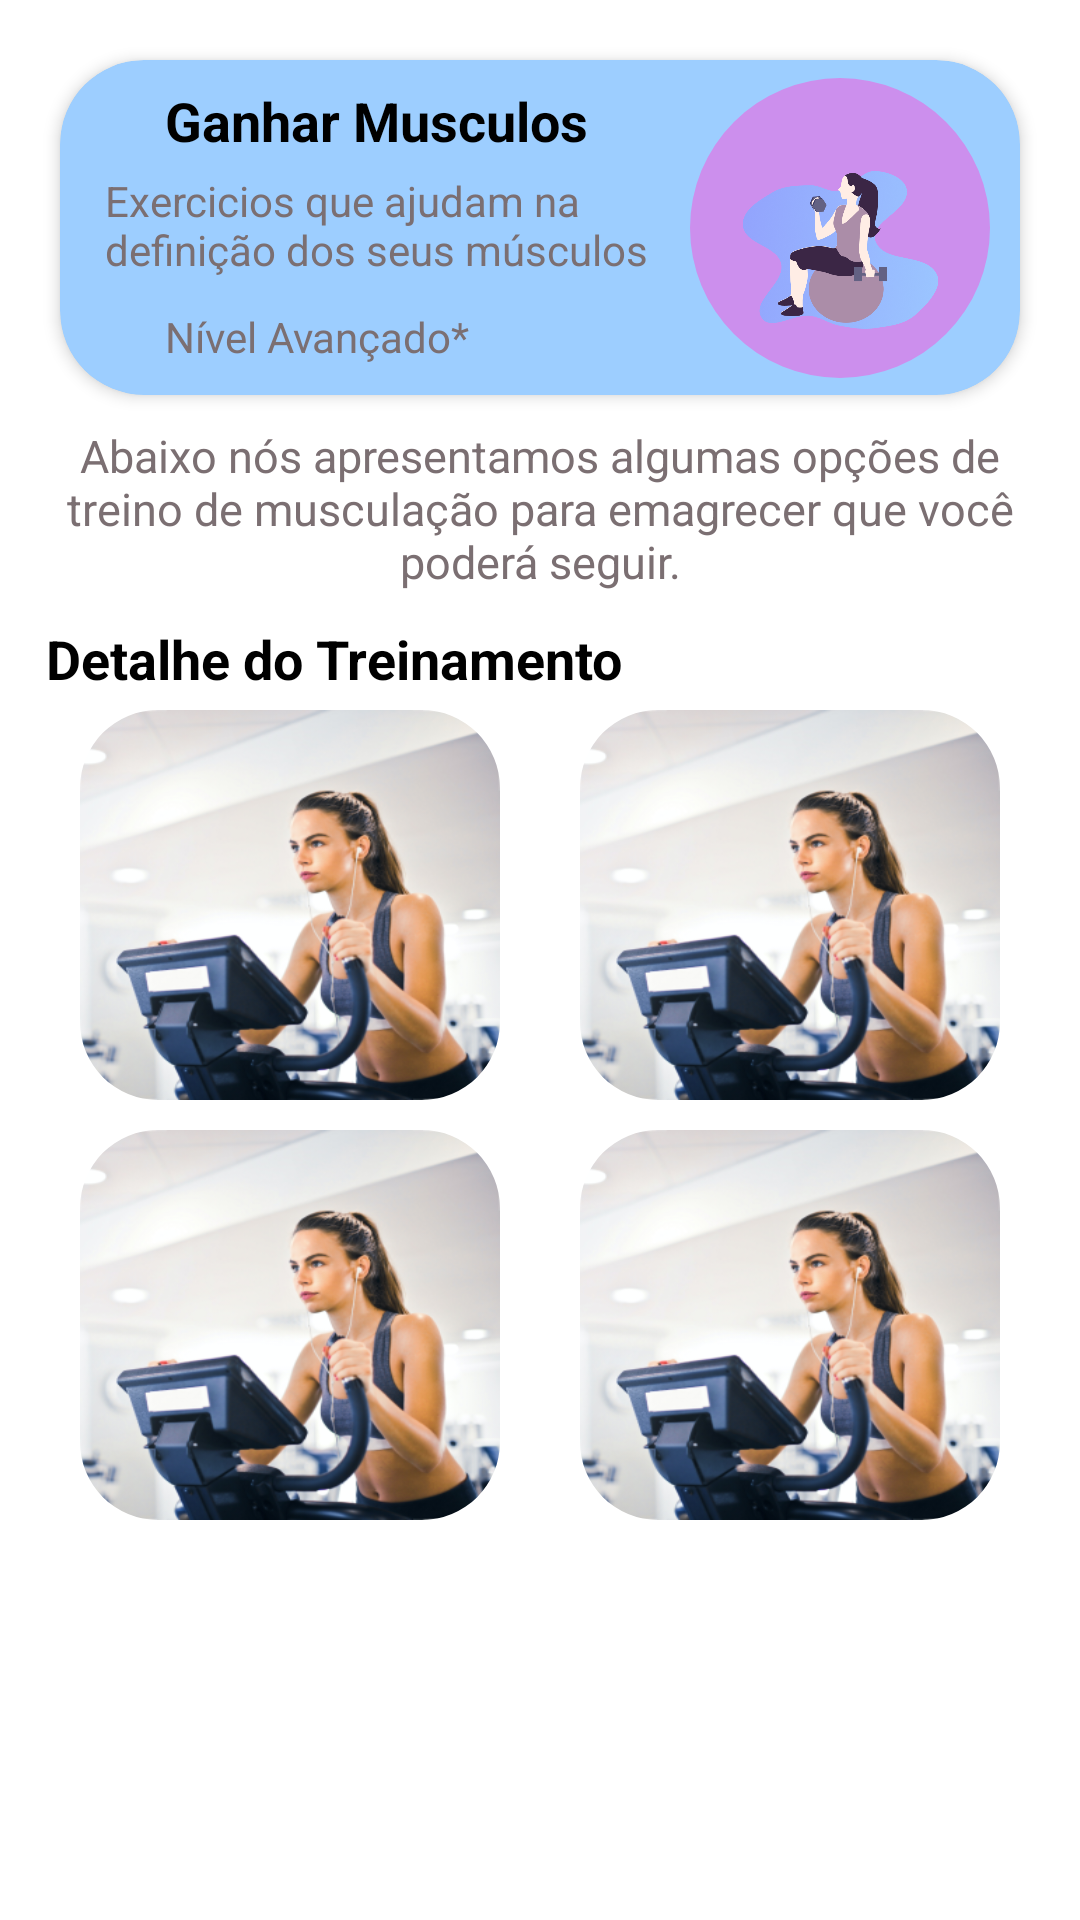

Icon click points for this 1080x1920 phone screenshot, format (x=x, y=y):
woman training: (x=840, y=228)
